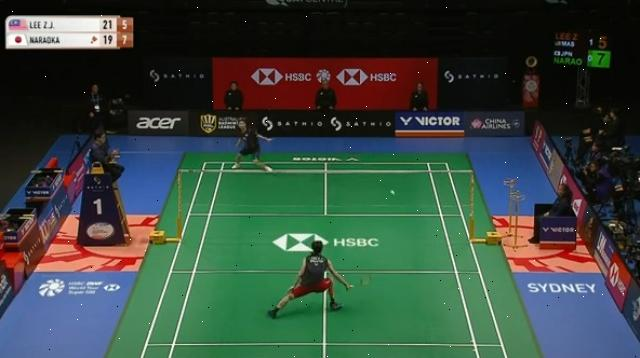Shuttlecock: (386, 184, 399, 198)
